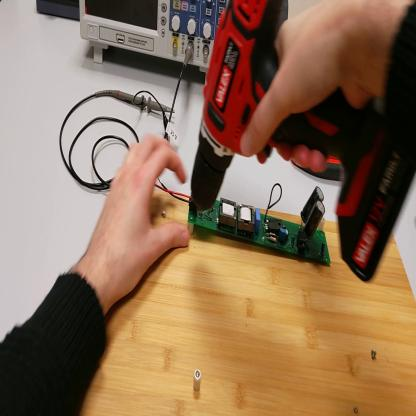electric screwdriver: (191, 1, 416, 285)
hand: (240, 3, 389, 165), (92, 132, 191, 298)
high voltage board: (159, 182, 332, 267)
oscilloscope: (81, 1, 228, 75)
oscilloscope probe tip: (113, 86, 174, 114)
socket: (37, 2, 81, 21)
working area: (82, 190, 416, 416)
